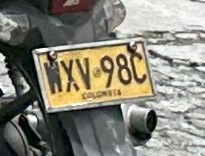number plate: (32, 39, 153, 112)
